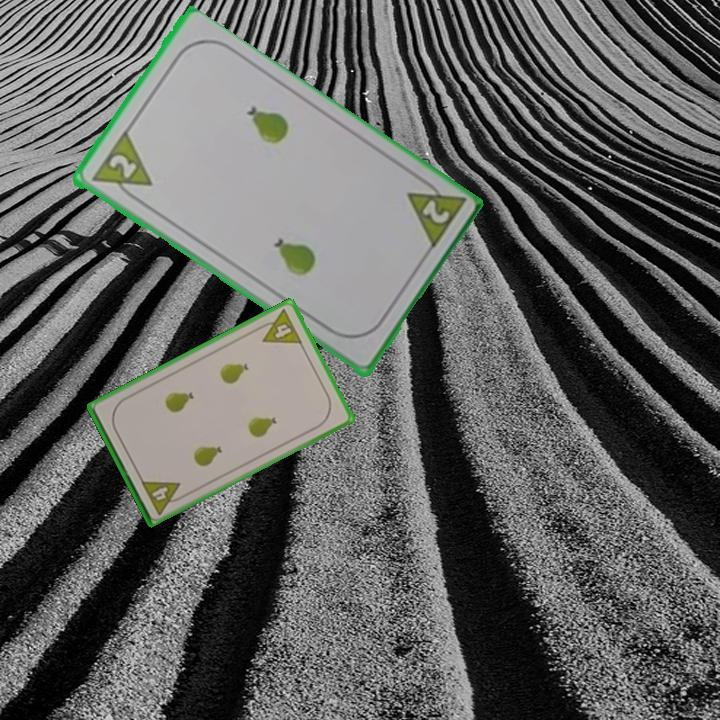2p: (402, 171, 467, 254), (86, 129, 155, 206)
4p: (253, 306, 305, 347), (137, 476, 188, 517)
